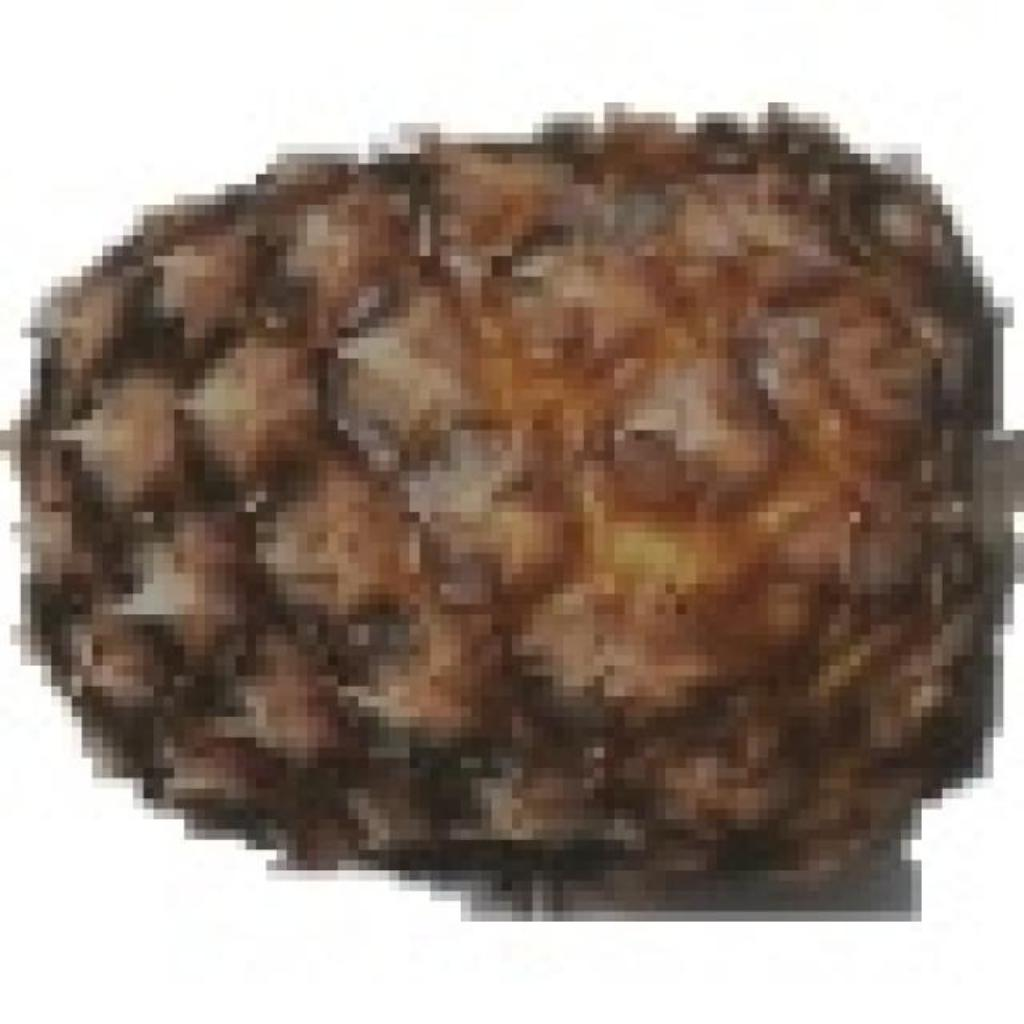pineapple: (10, 102, 983, 891)
